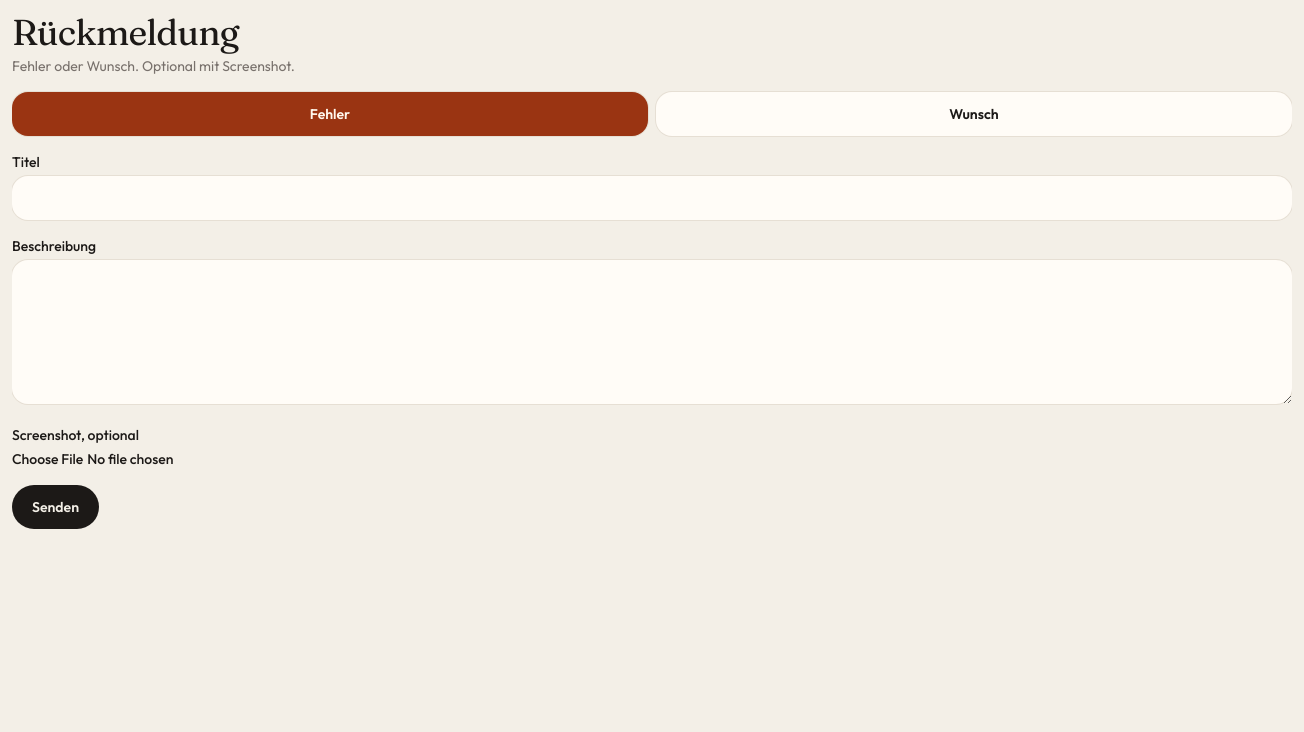
Test: FeedbackForm › shows the server message when sending fails
Type "Fehler" into the field labelled "Titel" at (652, 198), box [12,176,1292,220]
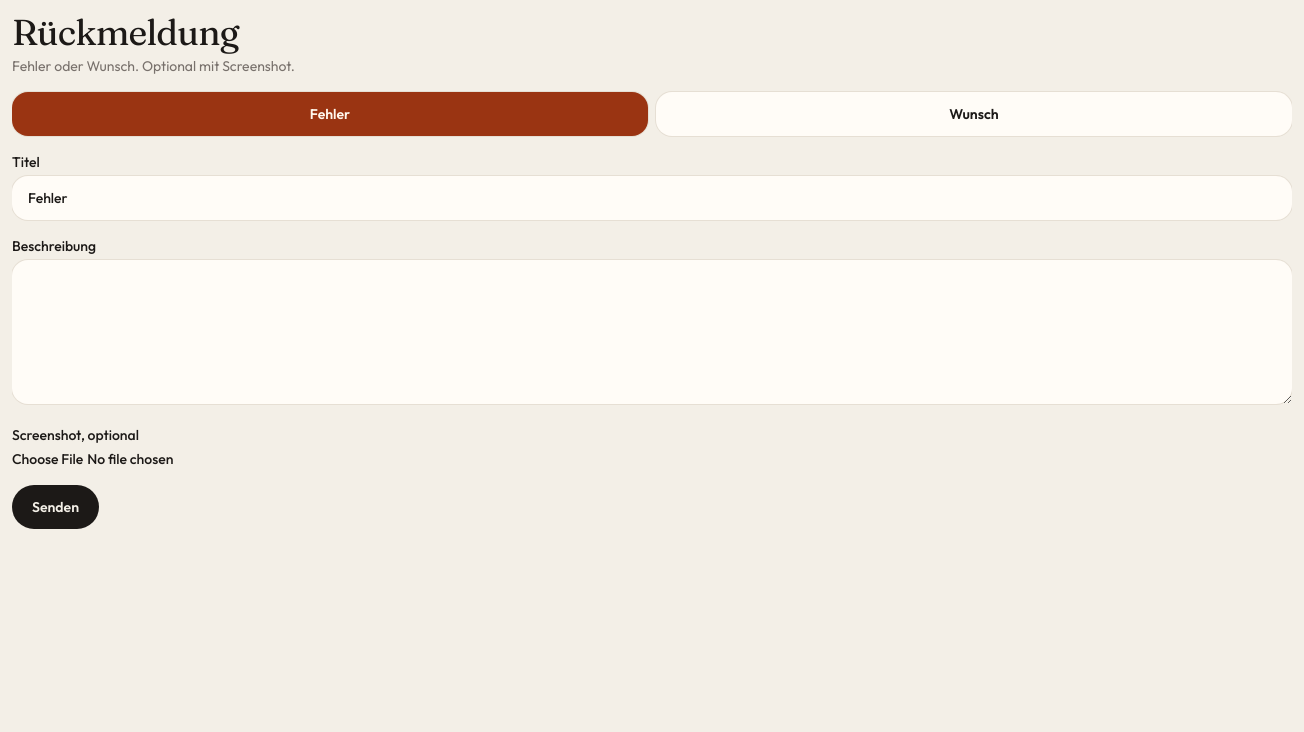
Type "Geht nicht" into the text box labelled "Beschreibung" at (652, 332), box [12,260,1292,404]
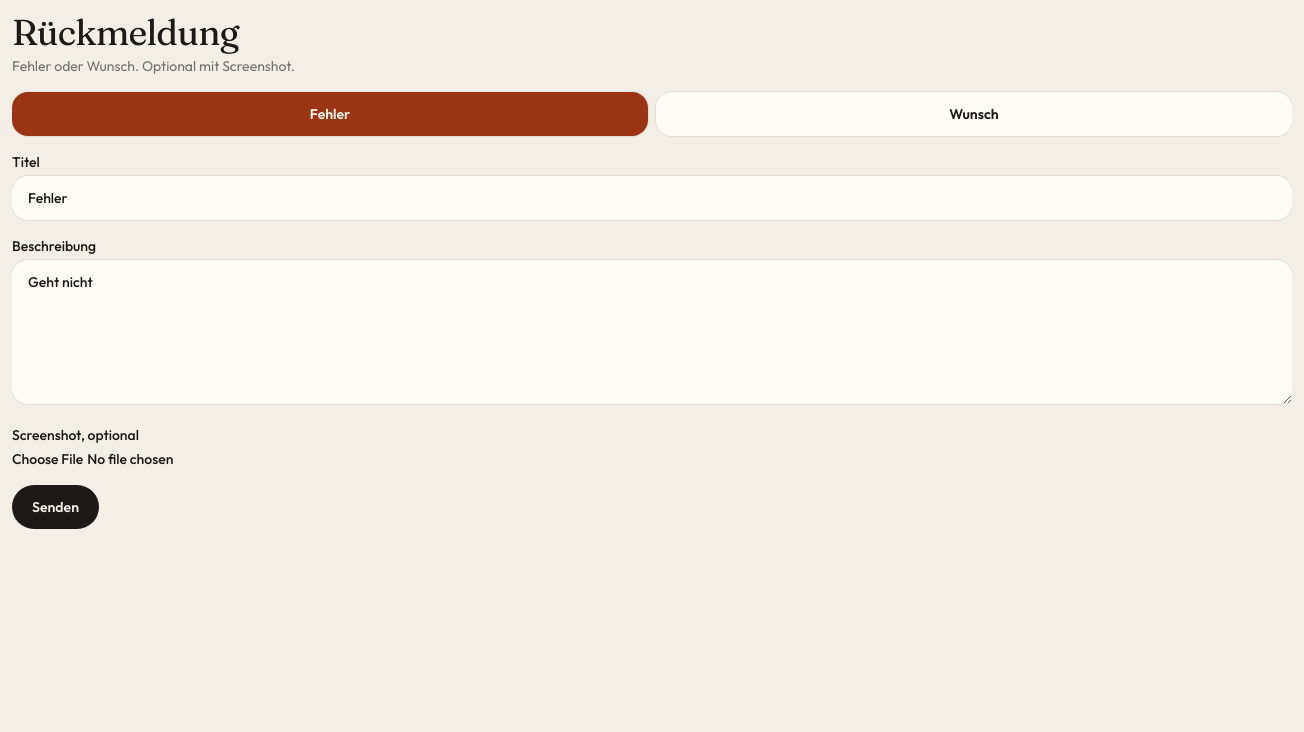
Click the button "Senden" at (56, 507), box [12,485,99,529]
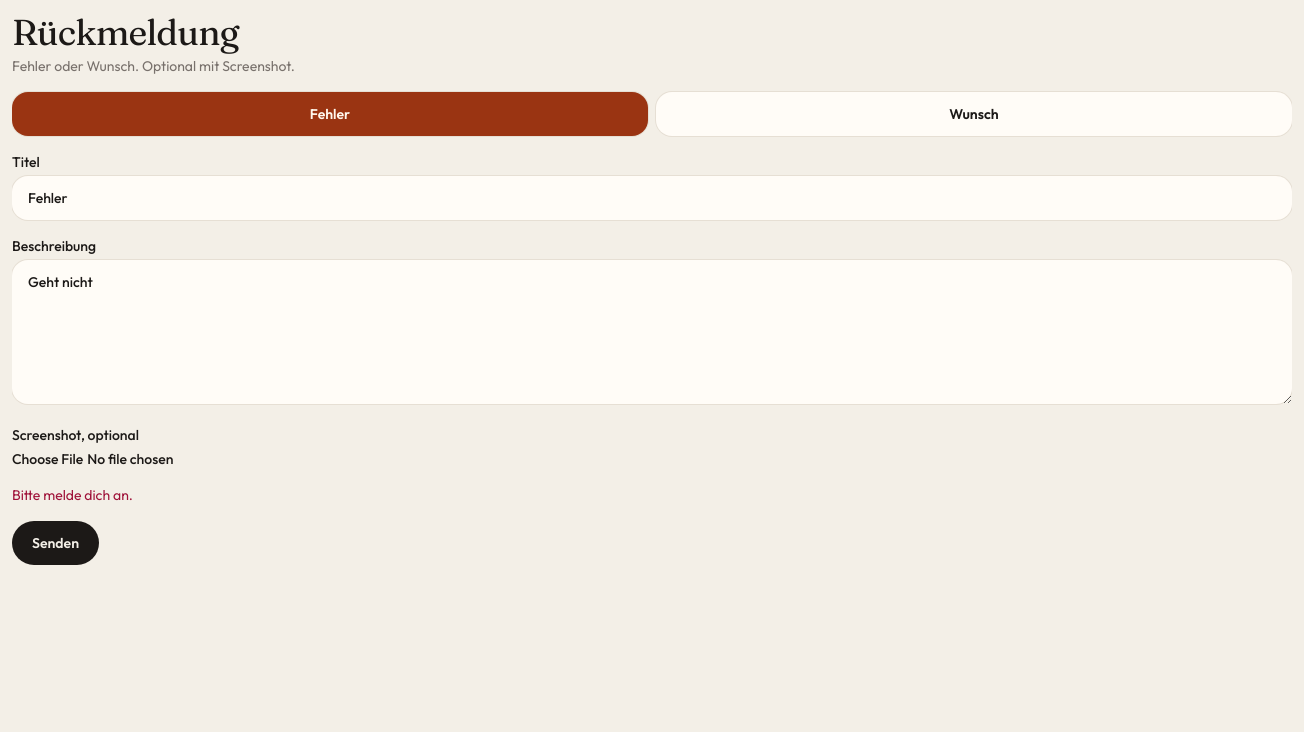
Now the text "Bitte melde dich an." is shown, box [12,486,133,504]
